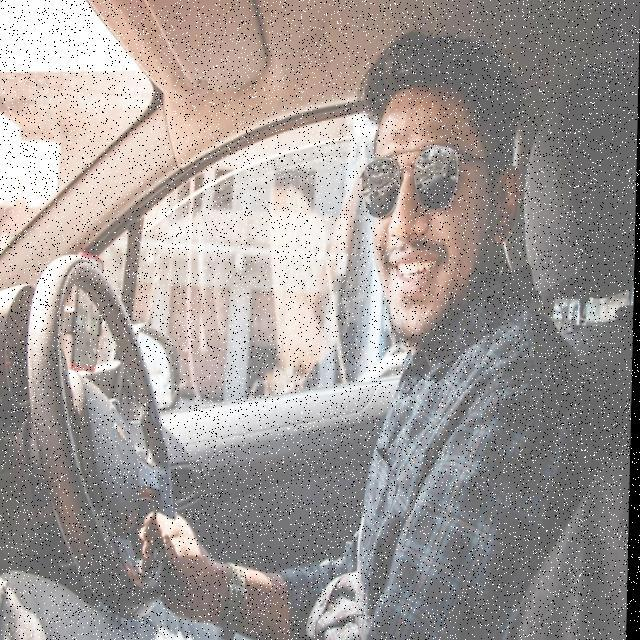noSeatbelt: (292, 310, 602, 640)
